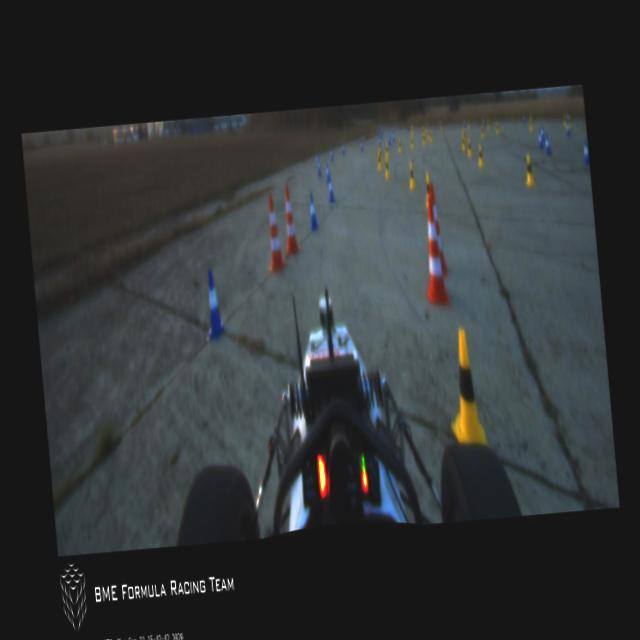blue_cone: (201, 268, 225, 338), (306, 192, 318, 231), (580, 138, 590, 166), (327, 177, 335, 202), (543, 133, 552, 155), (315, 156, 322, 175), (324, 162, 330, 184), (536, 130, 542, 148), (564, 116, 570, 134), (358, 137, 364, 153), (328, 148, 334, 161), (340, 142, 345, 156), (540, 126, 544, 143), (463, 117, 466, 126), (392, 130, 394, 142), (379, 130, 382, 138), (388, 135, 390, 145), (378, 135, 380, 144), (522, 113, 524, 122)
large_orange_cone: (418, 202, 449, 308), (426, 185, 448, 278), (263, 192, 286, 273), (280, 184, 300, 256)
yellow_cone: (444, 328, 489, 452), (422, 172, 435, 210), (523, 152, 537, 187), (408, 162, 417, 190), (476, 144, 484, 169), (466, 138, 473, 158), (378, 144, 384, 164), (460, 133, 466, 152), (376, 151, 382, 170), (494, 118, 500, 136), (384, 159, 389, 179), (528, 114, 533, 131), (384, 142, 389, 158), (397, 137, 402, 153), (562, 111, 566, 128), (409, 136, 414, 149), (480, 120, 484, 136), (422, 132, 426, 145), (429, 130, 433, 143), (426, 129, 429, 140), (486, 118, 489, 128), (467, 120, 470, 128), (411, 126, 414, 134), (440, 121, 442, 130)
